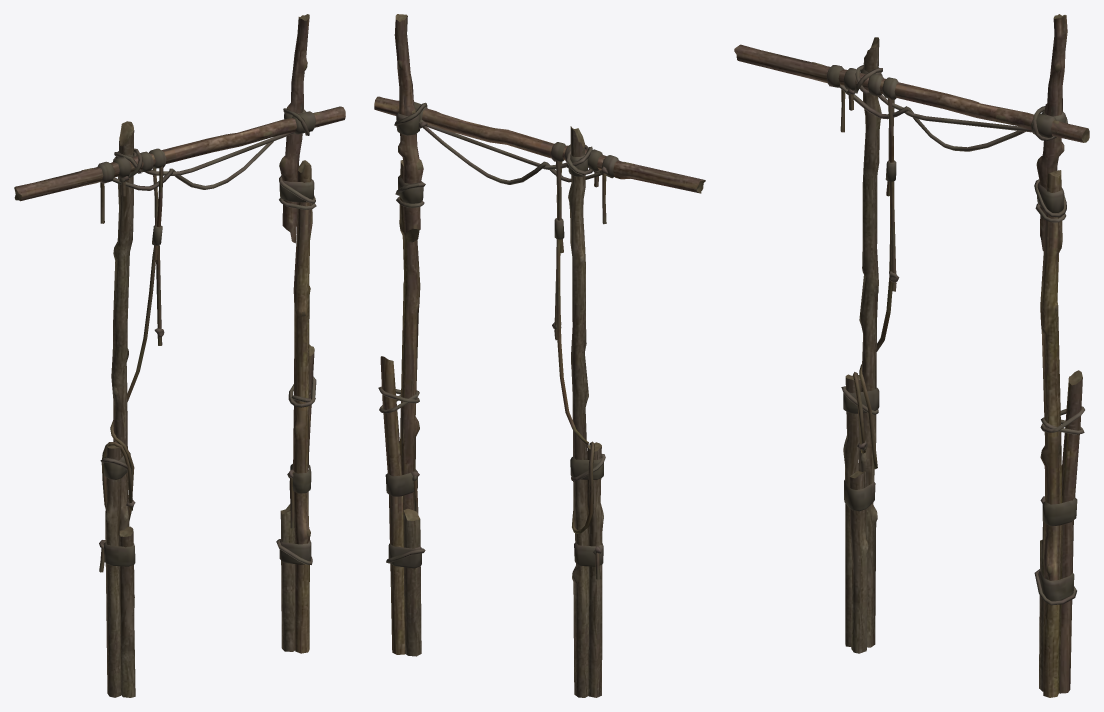
File: GEN_PRO_DockPillar_04A_LOD0-transformed.glb
3 renders of one model, left to right at view 1: azimuth 30°, elevation 25°; view 2: azimuth 150°, elevation 25°; view 3: azimuth 330°, elevation 25°, orthographic. The views are drawn at different scales.
Parts seen in each view (by area): view 1: default; view 2: default; view 3: default.
Part boxes in pixels (<box>): default: <box>14,14,345,697</box>; default: <box>374,14,705,697</box>; default: <box>734,14,1089,697</box>.
Bounding box in the file's own units: 3.26 × 6.03 × 0.4214.
Materials: 2 (2 with a texture image).
